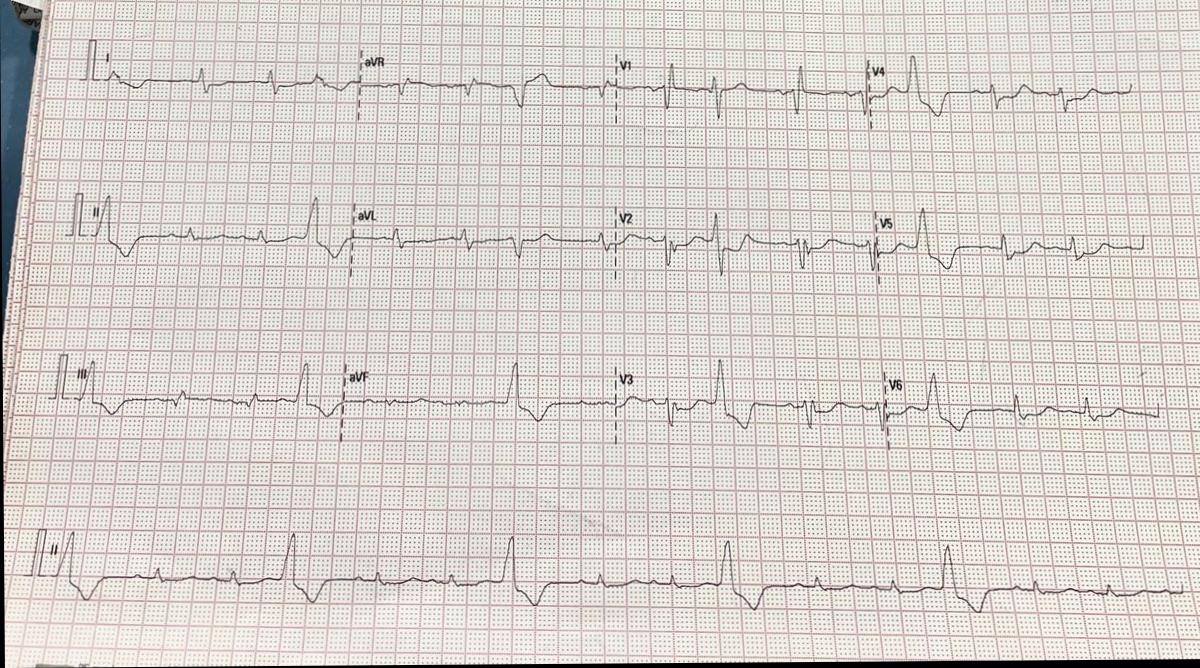Lead_I: (95, 35, 360, 125)
Lead_II: (82, 182, 351, 285)
Lead_III: (68, 350, 343, 450)
Lead_II_ext: (43, 510, 1189, 635)
Lead_V1: (618, 35, 866, 141)
Lead_V2: (616, 189, 877, 288)
Lead_V3: (617, 349, 888, 464)
Lead_V4: (866, 43, 1135, 135)
Lead_V5: (876, 199, 1152, 286)
Lead_V6: (885, 352, 1169, 447)
Lead_aVF: (343, 344, 617, 457)
Lead_aVL: (351, 188, 615, 288)
Lead_aVR: (359, 39, 617, 120)
